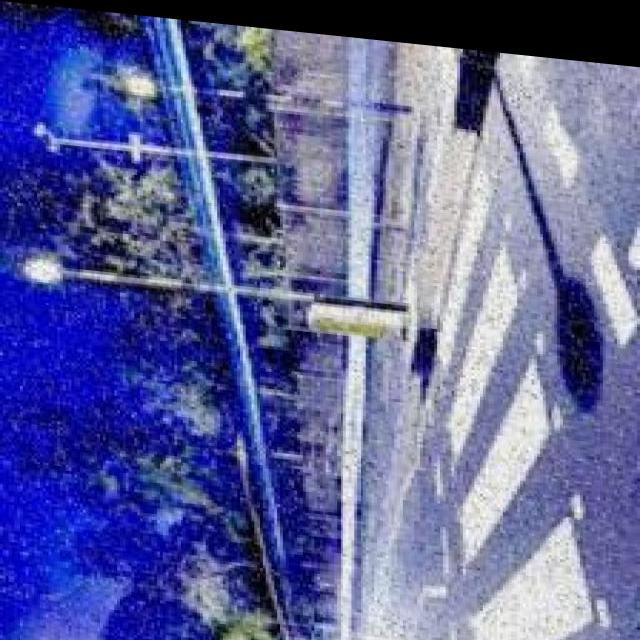zebra: (428, 154, 574, 640)
